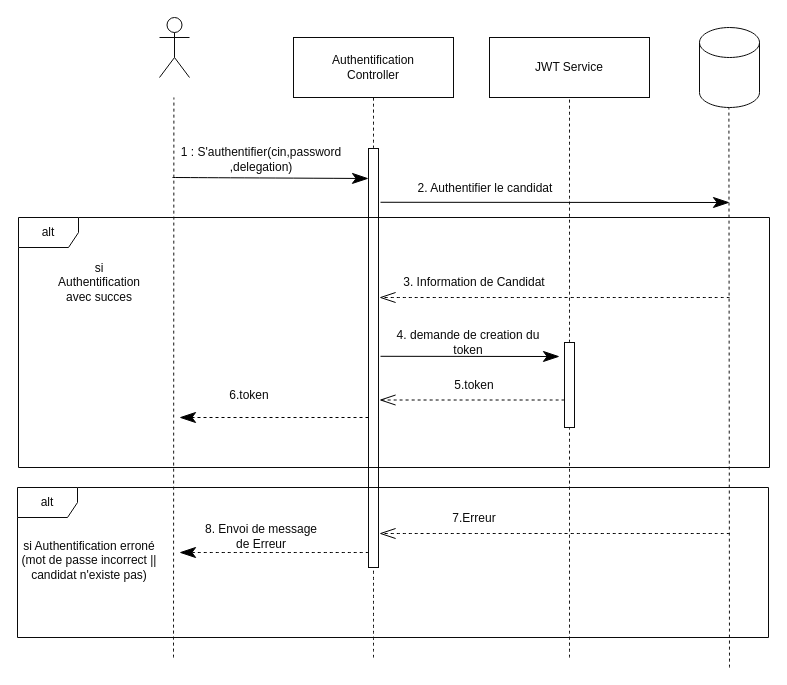
The diagram is 787 pixels wide and 685 high, and some of its shapes have lost their labels. The box of each missing label's shape, as (x1, y1, x2, y2) in pixels:
:Candidat: (158, 16, 190, 78)
DB: (698, 26, 760, 108)
